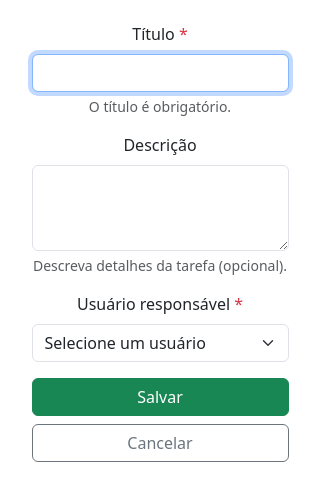
Scenario: TaskForm › deve impedir envio se campos obrigatórios estiverem vazios
The image size is (322, 492).
Click the button "Salvar" at (160, 397), box [32, 378, 288, 416]
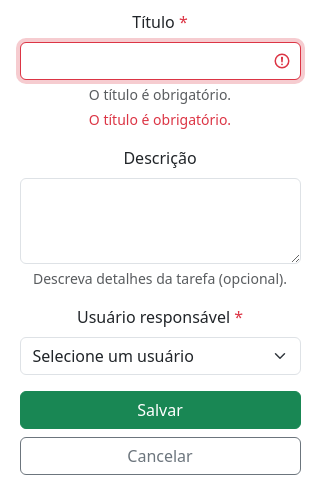
Result: the 2nd text "O título é obrigatório." is shown at [89, 110, 231, 128]
